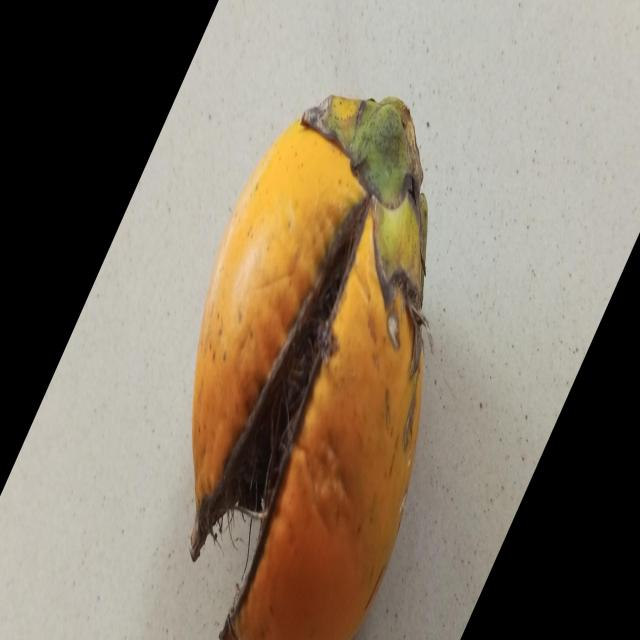damaged: (190, 96, 429, 640)
